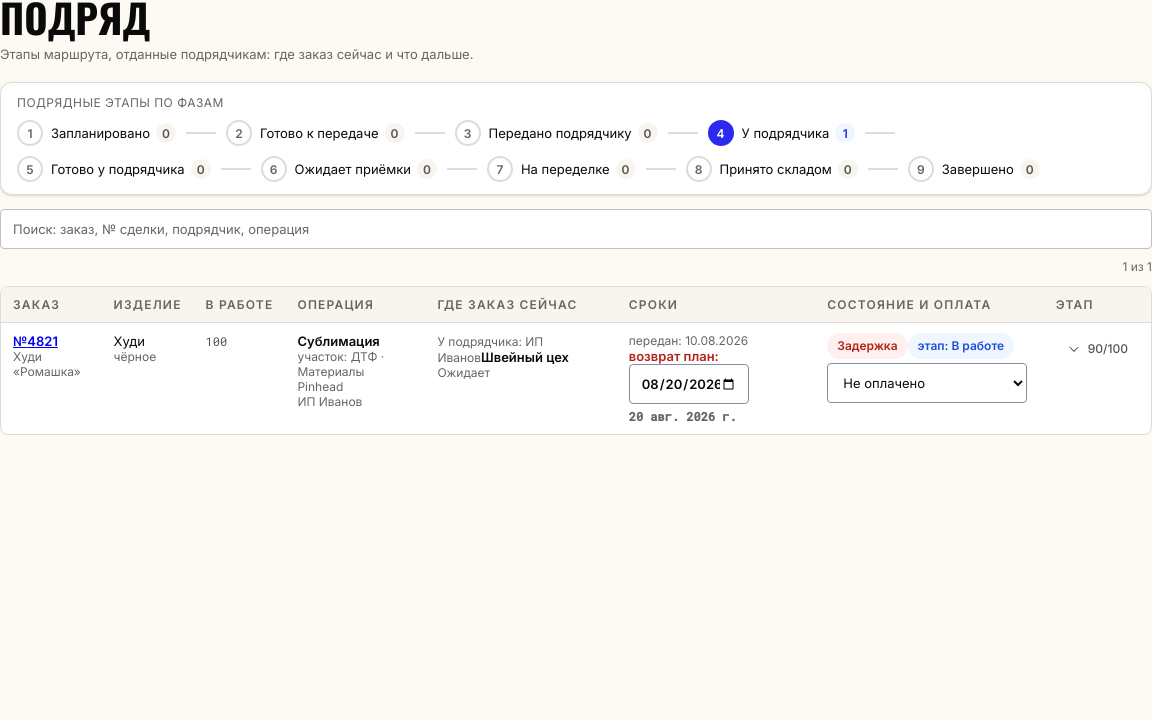
it: Подряд › непринятое ждёт приёмки, браком становится только отмеченное
This screenshot has width=1152, height=720.
Click the button "90/100": {"x": 1097, "y": 349} [1056, 333, 1139, 365]
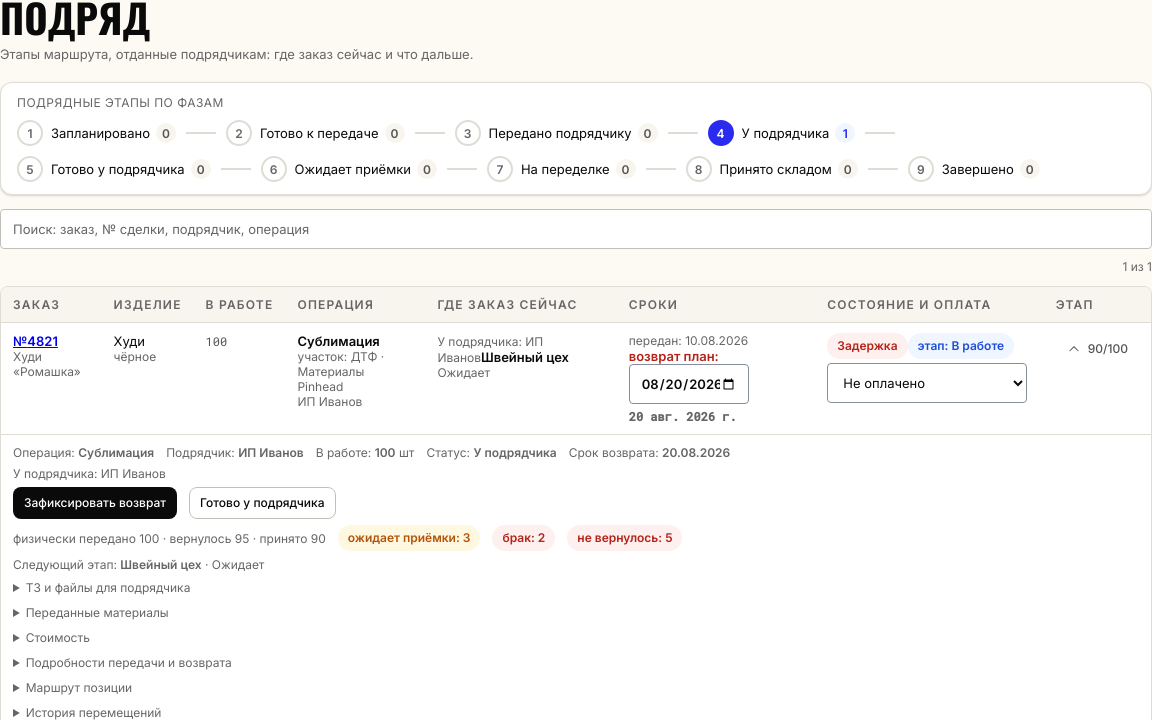
Now the text "не вернулось: 5" is shown, box [567, 525, 682, 551]
Now the text "ожидает приёмки: 3" is shown, box [338, 525, 480, 551]
Now the text "брак: 2" is shown, box [492, 525, 555, 551]
